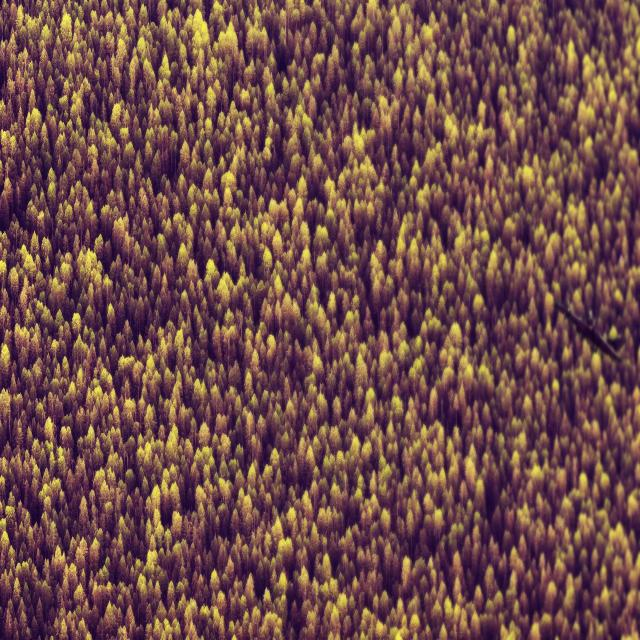airplane: (553, 300, 622, 363)
